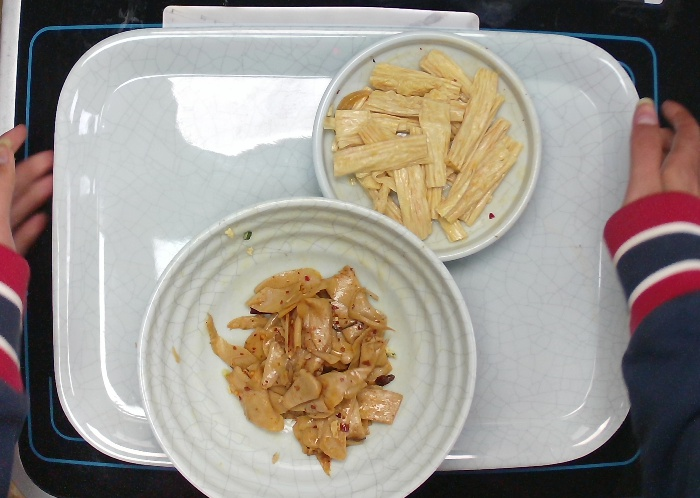JYsf-Da_Tang_Wan: (137, 196, 481, 498)
JYsf-Xiao_Yuan_Pan: (308, 31, 543, 261)
